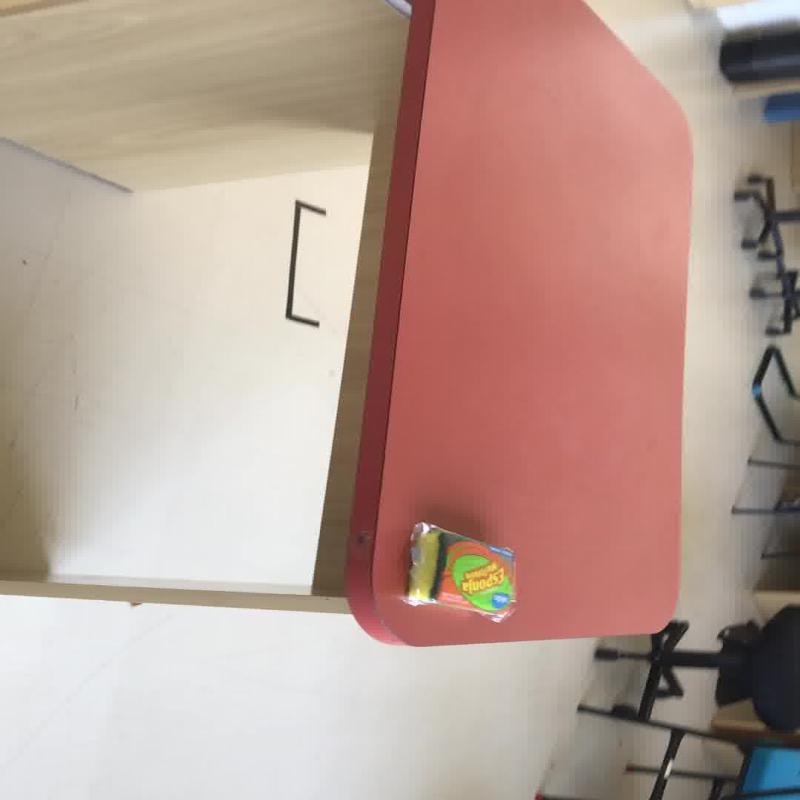sponge: (403, 521, 517, 622), (404, 522, 440, 604)
